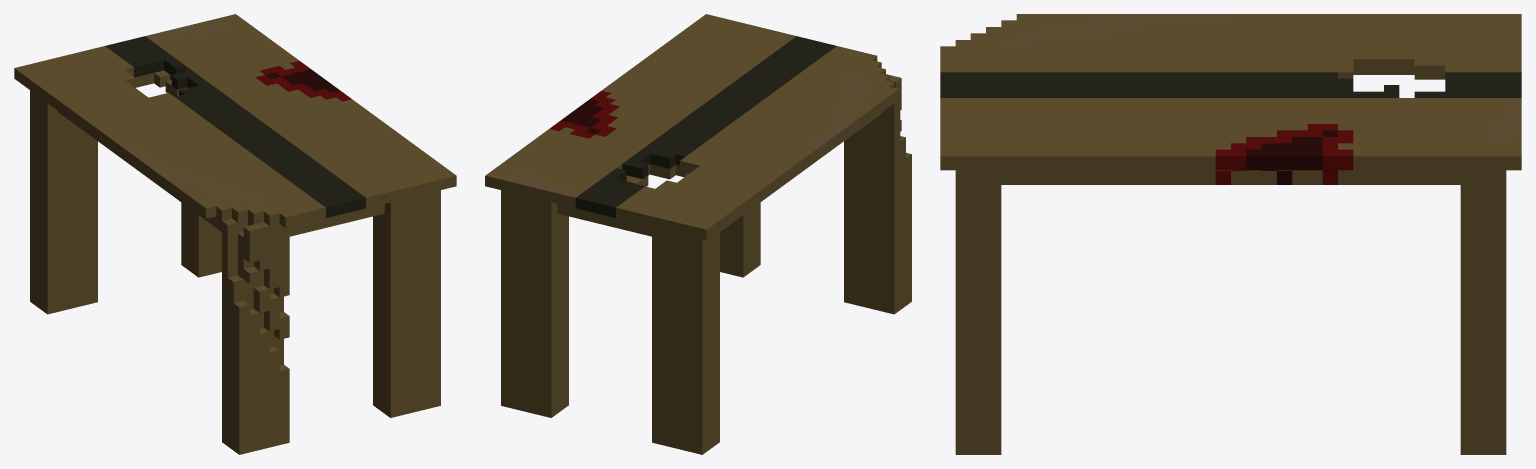
File: Table1(Battle-Scarred).obj
The picture shows the model from 3 angles, left to right: view 1: azimuth 30°, elevation 25°; view 2: azimuth 150°, elevation 25°; view 3: azimuth 270°, elevation 25°; orthographic projection. The views are drawn at different scales.
Size of the model in its own units: 2.2 by 2.2 by 3.8.
1 material, 1 textured.
